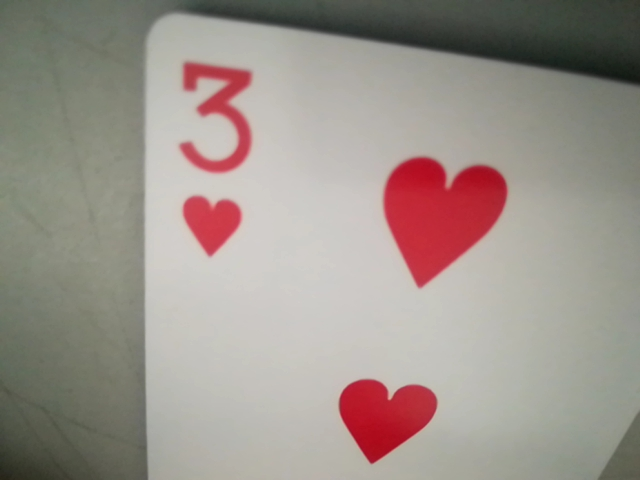hx 3: (168, 47, 257, 288)
